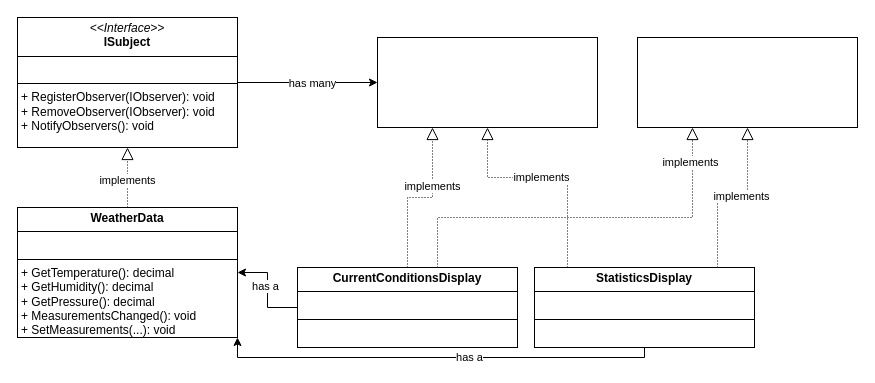
Image size: 875x383. Some labels were removed from this diagram. The centre of each missing label's shape, as x and y in pixels:
"<<Interface>> IDisplayElement + Display(): void" belongs at point 747,82.
"<<Interface>> IObserver + Update(): void" belongs at point 487,82.
